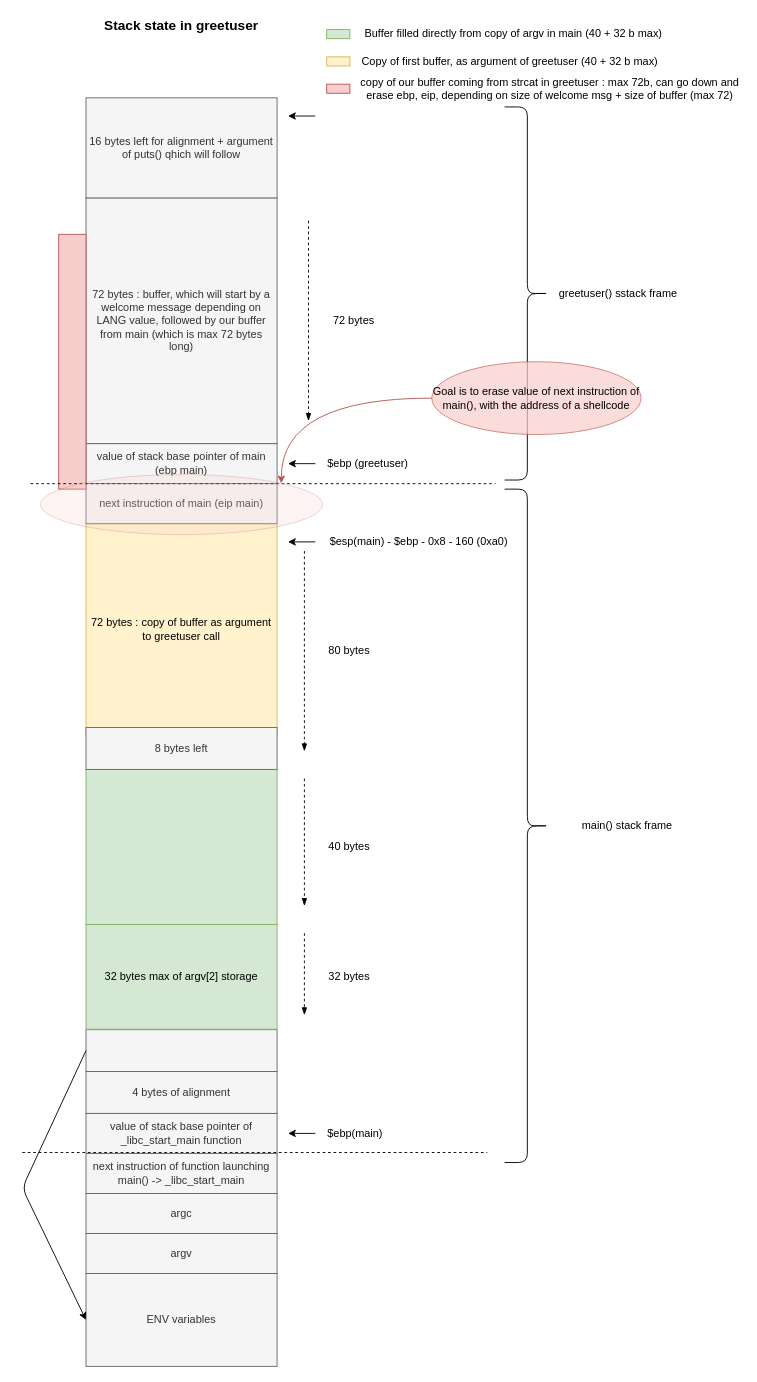
Image size: 757x1382. Some labels were removed from this diagram. The box of each missing label's shape, as (x1, y1, x2, y2) in pixels:
40 bytes max of argv[1] storage: (85, 768, 277, 925)
ptr to LANG env variable: (85, 1029, 277, 1072)
